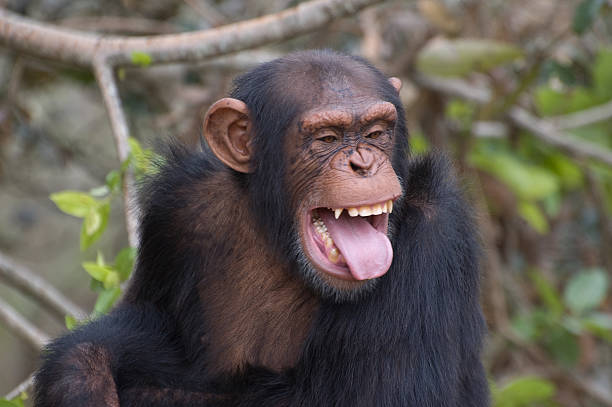chimpanzee: (194, 38, 436, 328)
